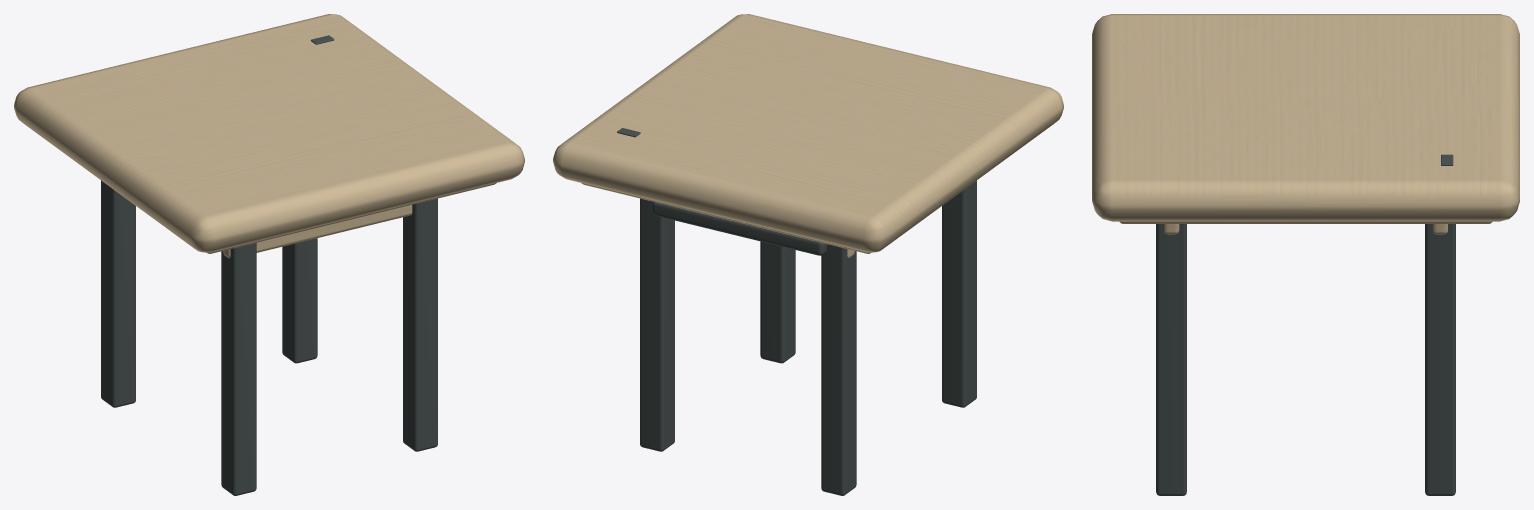
The model's file is workstation-v1.glb.
3 views of the same model, side by side, from view 1: azimuth 30°, elevation 25°; view 2: azimuth 150°, elevation 25°; view 3: azimuth 270°, elevation 25° (orthographic). The views are drawn at different scales.
Parts seen in each view (by area): view 1: Pale oak continuous top; view 2: Pale oak continuous top; view 3: Pale oak continuous top.
Part boxes in pixels (bbox=[...]): Pale oak continuous top: bbox=[14, 14, 524, 495]; Pale oak continuous top: bbox=[553, 14, 1063, 495]; Pale oak continuous top: bbox=[1092, 14, 1519, 495].
Size of the model in its own units: 0.97 by 0.8645 by 0.97.
Materials: 2 (1 with a texture image).
